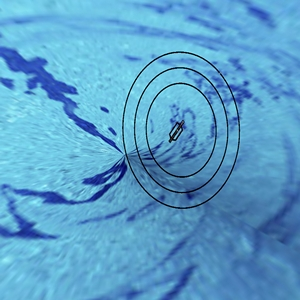circle: (113, 38, 252, 217)
submarine: (166, 111, 188, 151)
